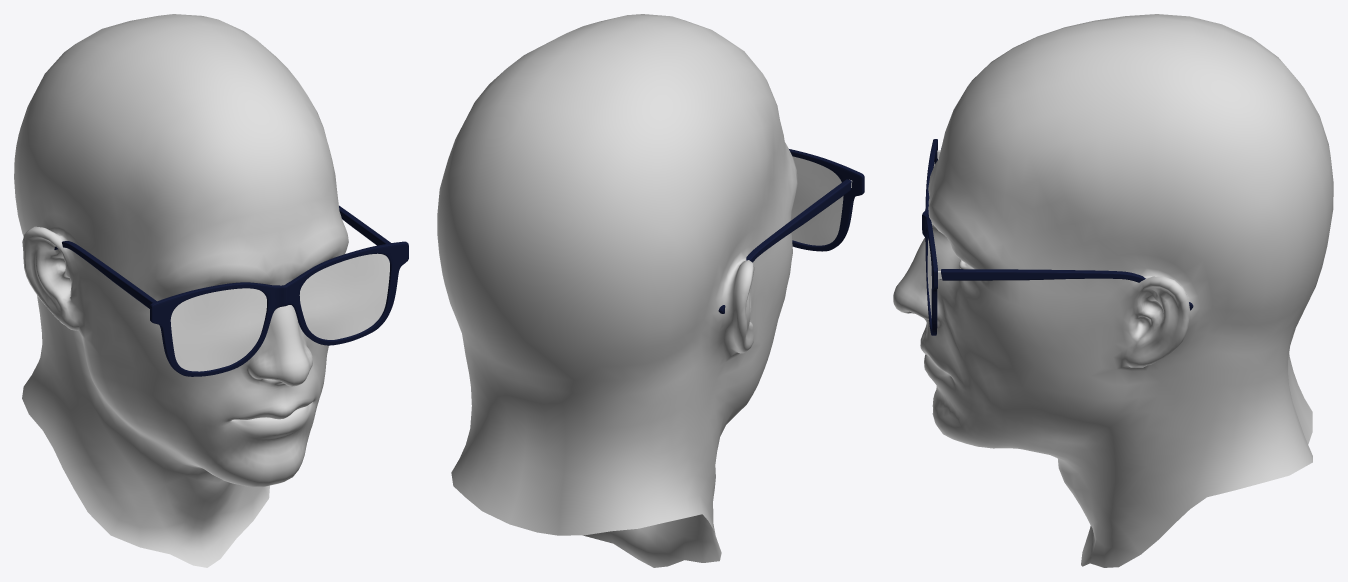
File: glasses.glb
The picture shows the model from 3 angles, left to right: view 1: azimuth 30°, elevation 25°; view 2: azimuth 150°, elevation 25°; view 3: azimuth 270°, elevation 25°; orthographic projection. The views are drawn at different scales.
Parts seen in each view (by area): view 1: man_body_0014 uv map, Plane, Cube, Cube.001; view 2: man_body_0014 uv map, Plane, Cube, Cube.001; view 3: man_body_0014 uv map, Cube.001, Cube.
Part boxes in pixels (left/top/right/bottom): man_body_0014 uv map: left=14, top=14, right=348, bottom=567; Plane: left=170, top=253, right=389, bottom=371; Cube: left=150, top=241, right=408, bottom=376; Cube.001: left=54, top=205, right=390, bottom=308; man_body_0014 uv map: left=437, top=14, right=797, bottom=567; Plane: left=791, top=156, right=843, bottom=245; Cube: left=789, top=149, right=864, bottom=251; Cube.001: left=718, top=179, right=852, bottom=313; man_body_0014 uv map: left=893, top=14, right=1333, bottom=567; Cube.001: left=937, top=148, right=1193, bottom=310; Cube: left=922, top=139, right=937, bottom=335.
Size of the model in its own units: 5.3 by 9.27 by 6.88.
